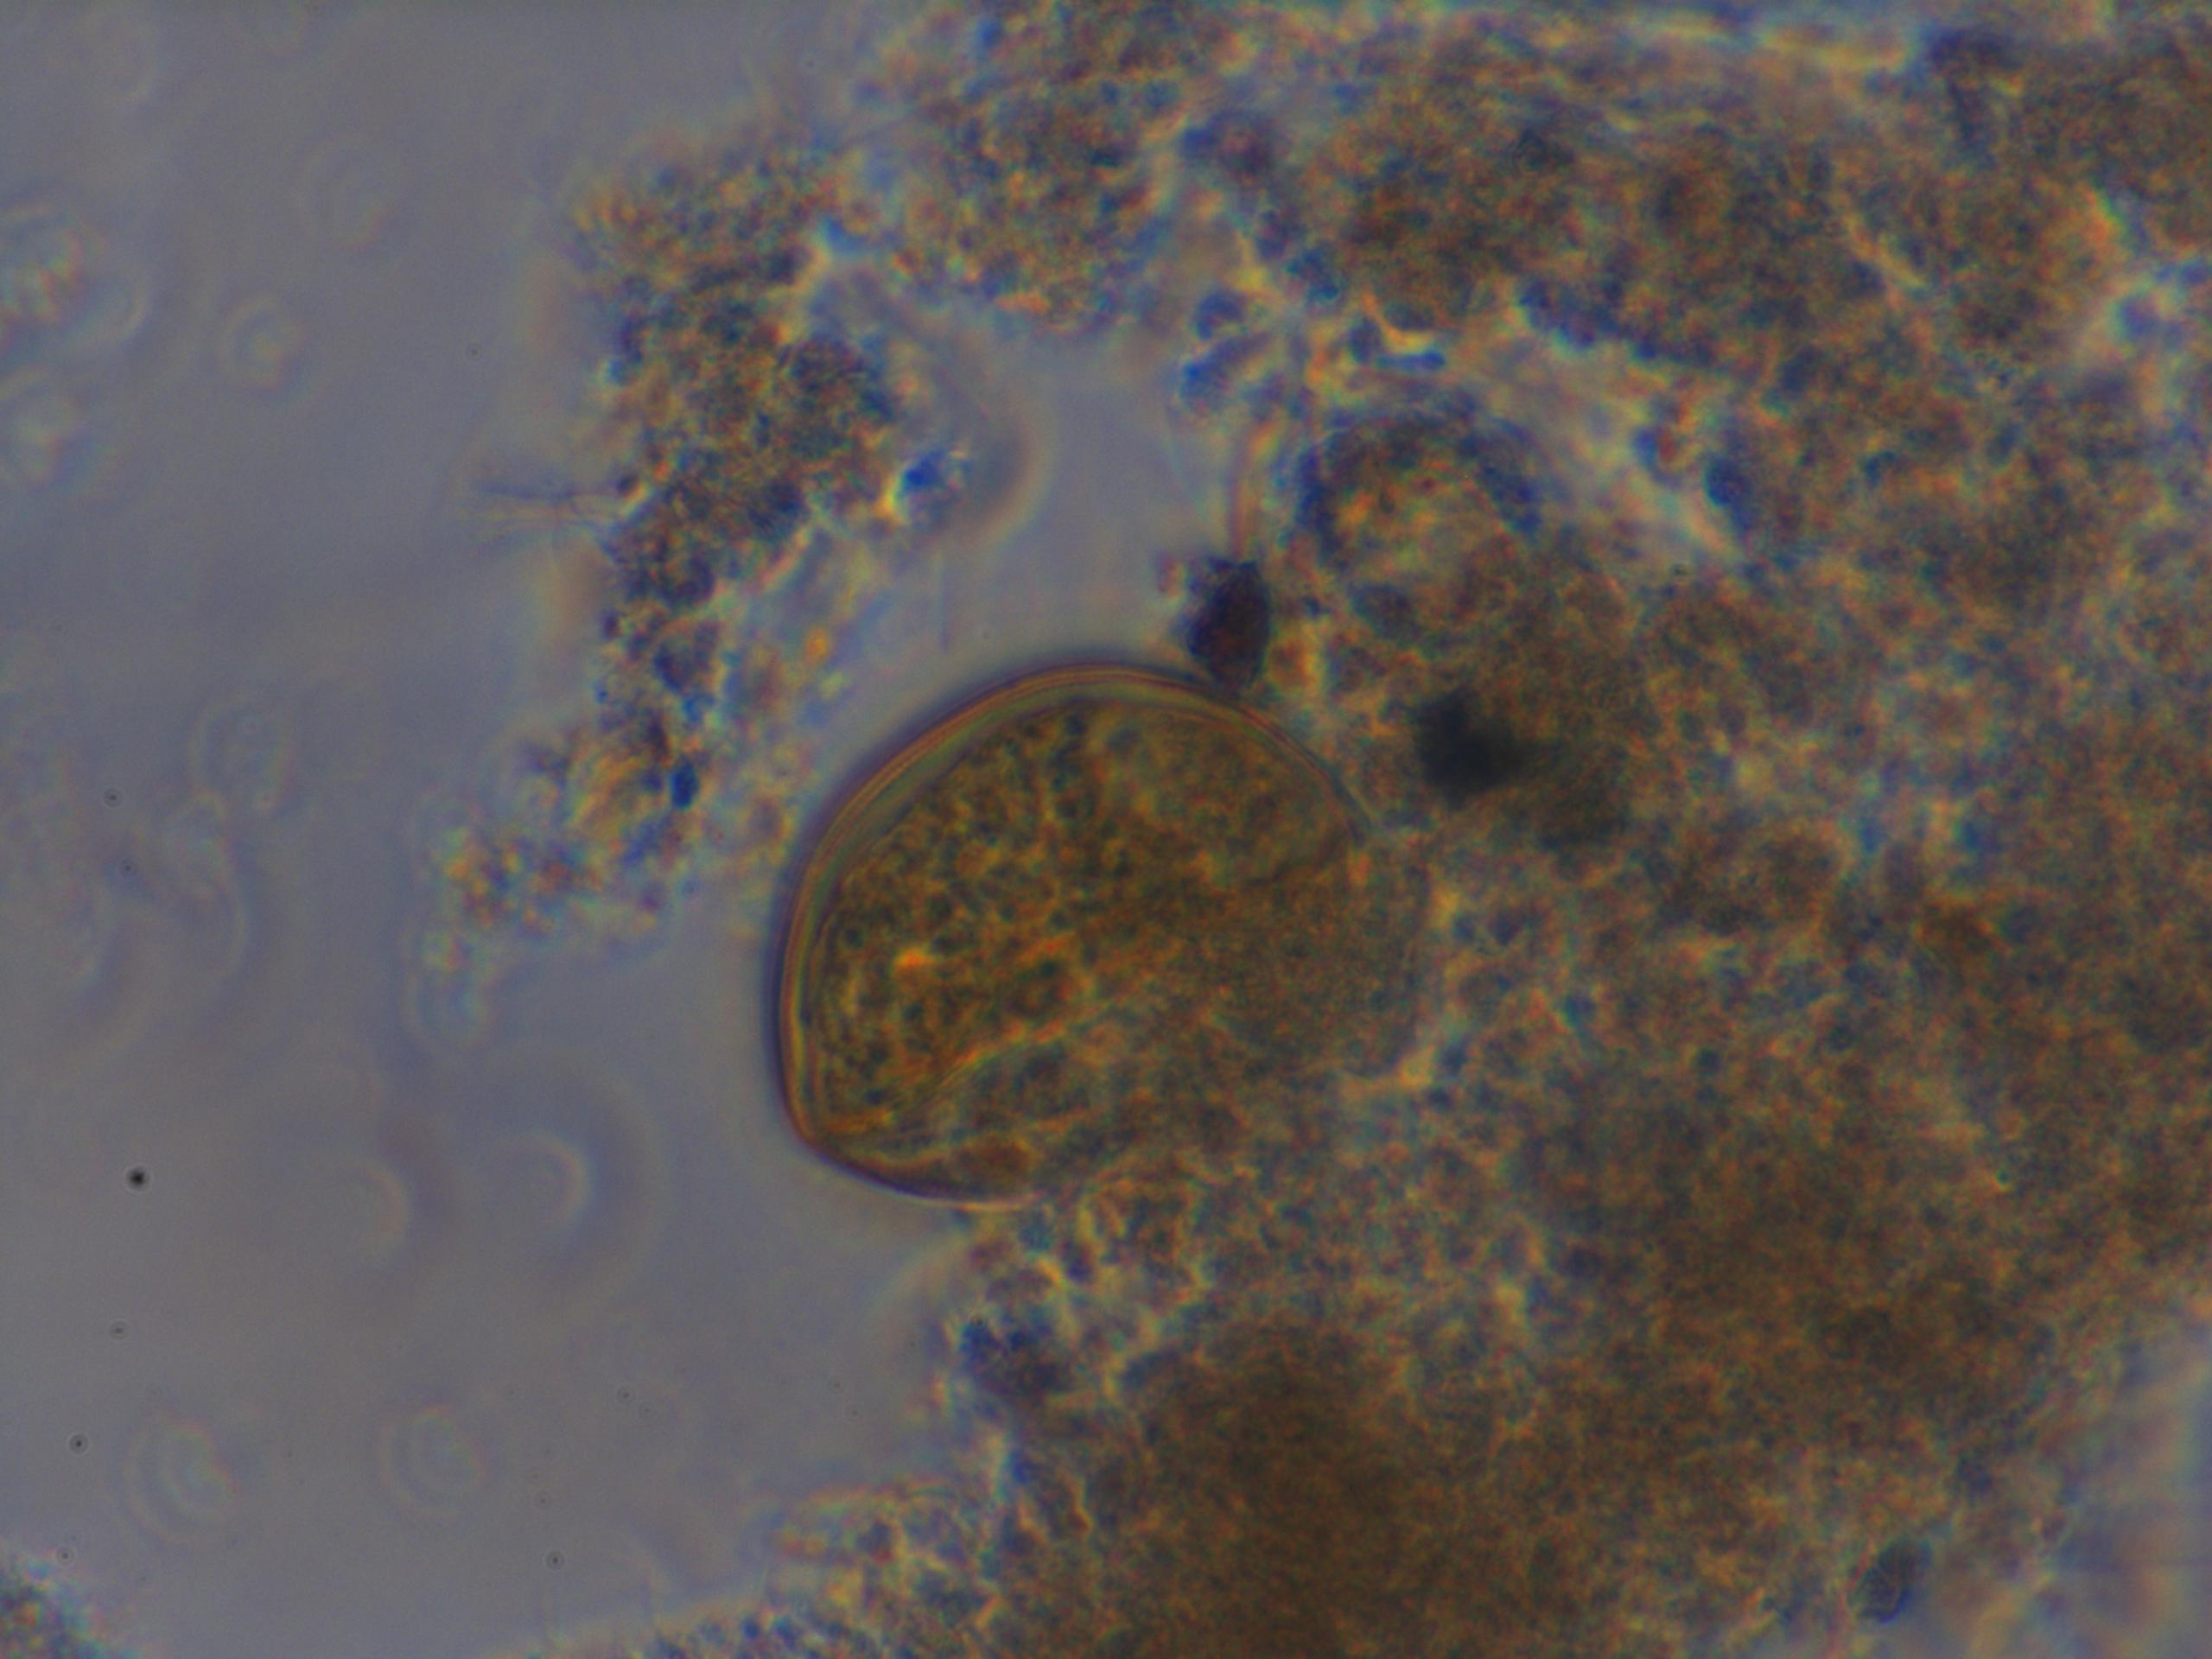protozoa: (756, 655, 1423, 1208)
